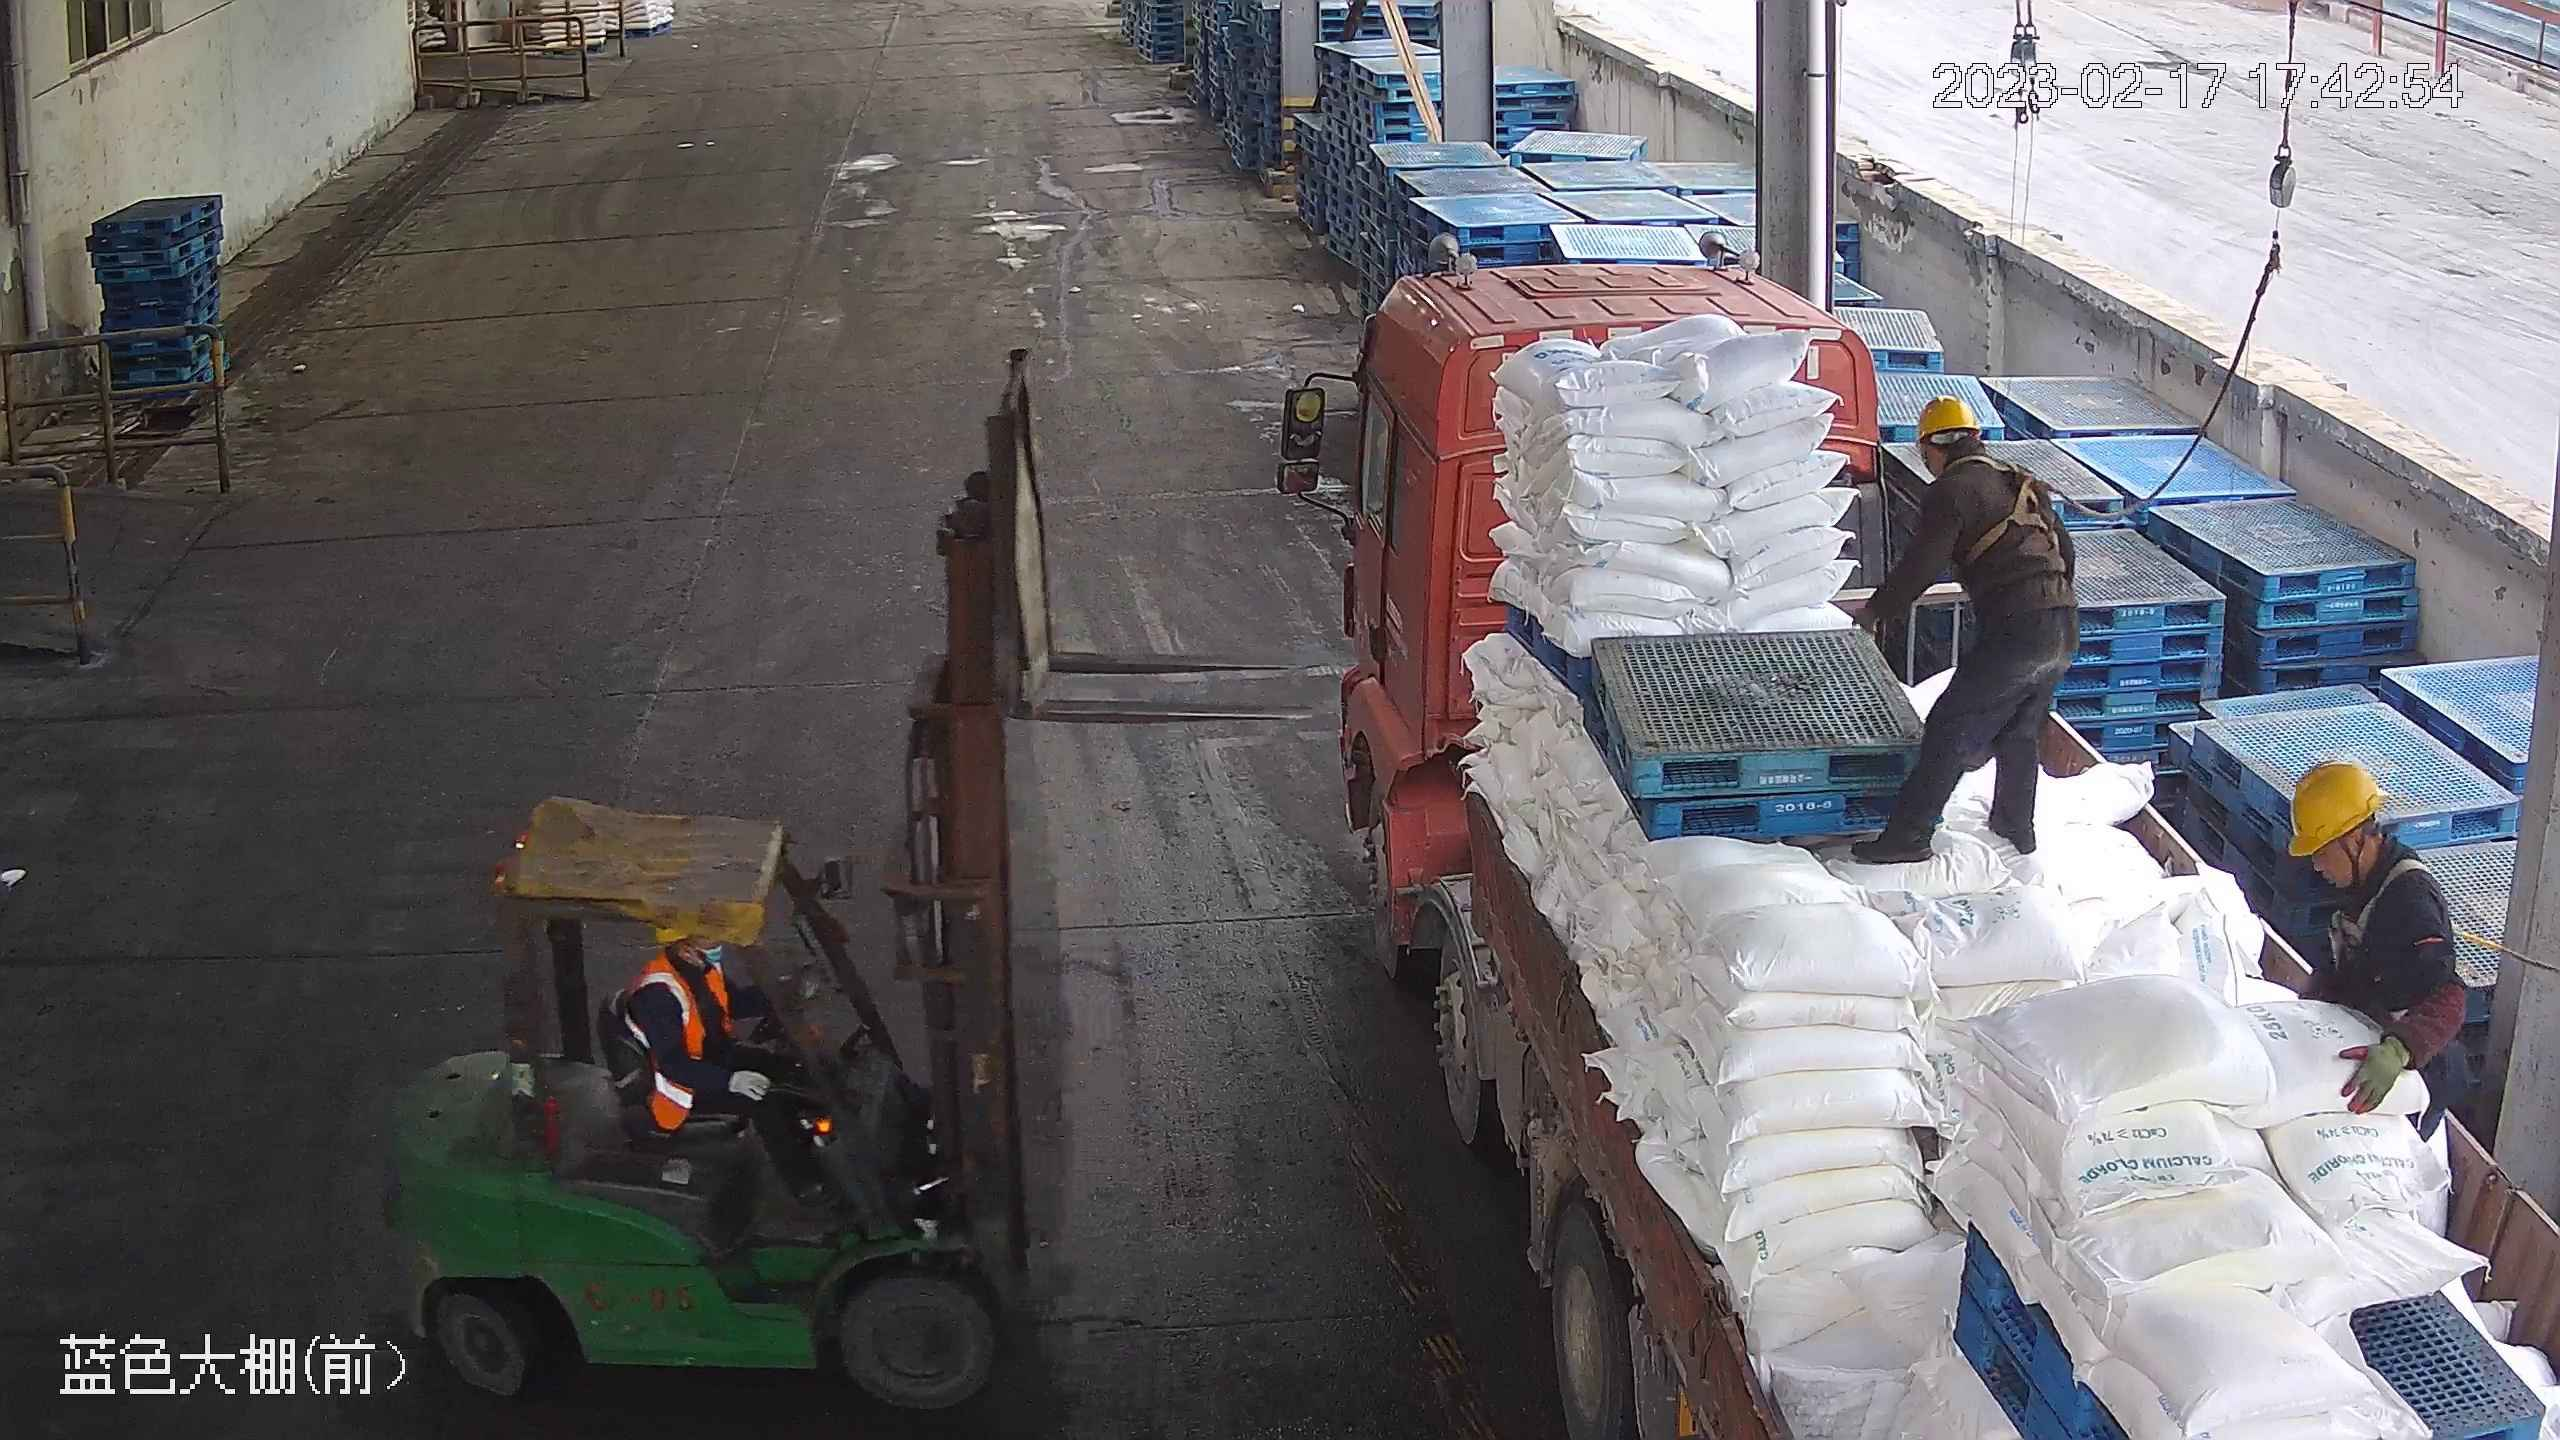belt: (2309, 860, 2500, 971), (1938, 455, 2064, 557)
head: (2290, 761, 2444, 943), (1884, 396, 2049, 538)
helmet: (2291, 762, 2389, 857), (1914, 394, 1984, 443)
people: (1849, 394, 2079, 867), (2288, 760, 2474, 1147), (618, 918, 866, 1206)
truck: (1279, 254, 2560, 1440)
